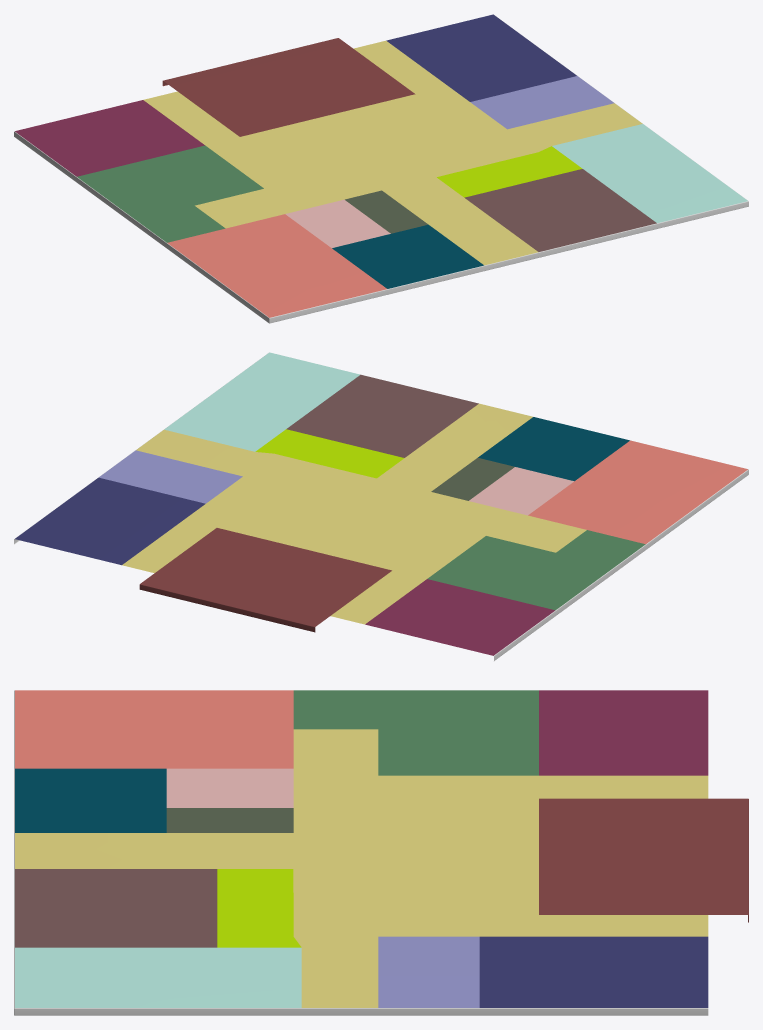
File: SM_HouseFloor.fbx
3 renders of one model, top to bottom at view 1: azimuth 30°, elevation 25°; view 2: azimuth 150°, elevation 25°; view 3: azimuth 270°, elevation 25°, orthographic. The views are drawn at different scales.
Parts seen in each view (by area): view 1: pCube3; view 2: pCube3; view 3: pCube3.
Boxes of the visible parts, bbox=[...] form: pCube3: bbox=[14, 14, 748, 323]; pCube3: bbox=[14, 352, 748, 660]; pCube3: bbox=[14, 690, 748, 1015].
Bounding box in the file's own units: 8904 × 100 × 8686.
